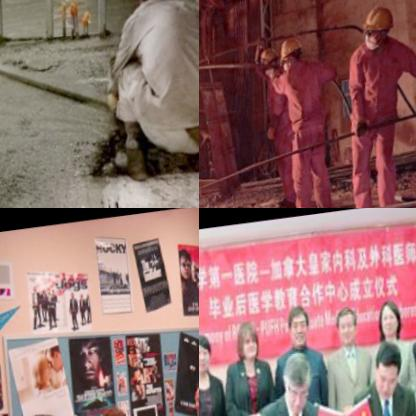head: (278, 349, 321, 412), (367, 337, 410, 400), (330, 302, 365, 348), (284, 303, 313, 346), (376, 296, 404, 340), (233, 318, 262, 358), (199, 331, 219, 374), (100, 402, 135, 416), (189, 375, 199, 416)
helmet: (359, 3, 401, 48), (278, 34, 312, 77), (257, 44, 285, 80)
